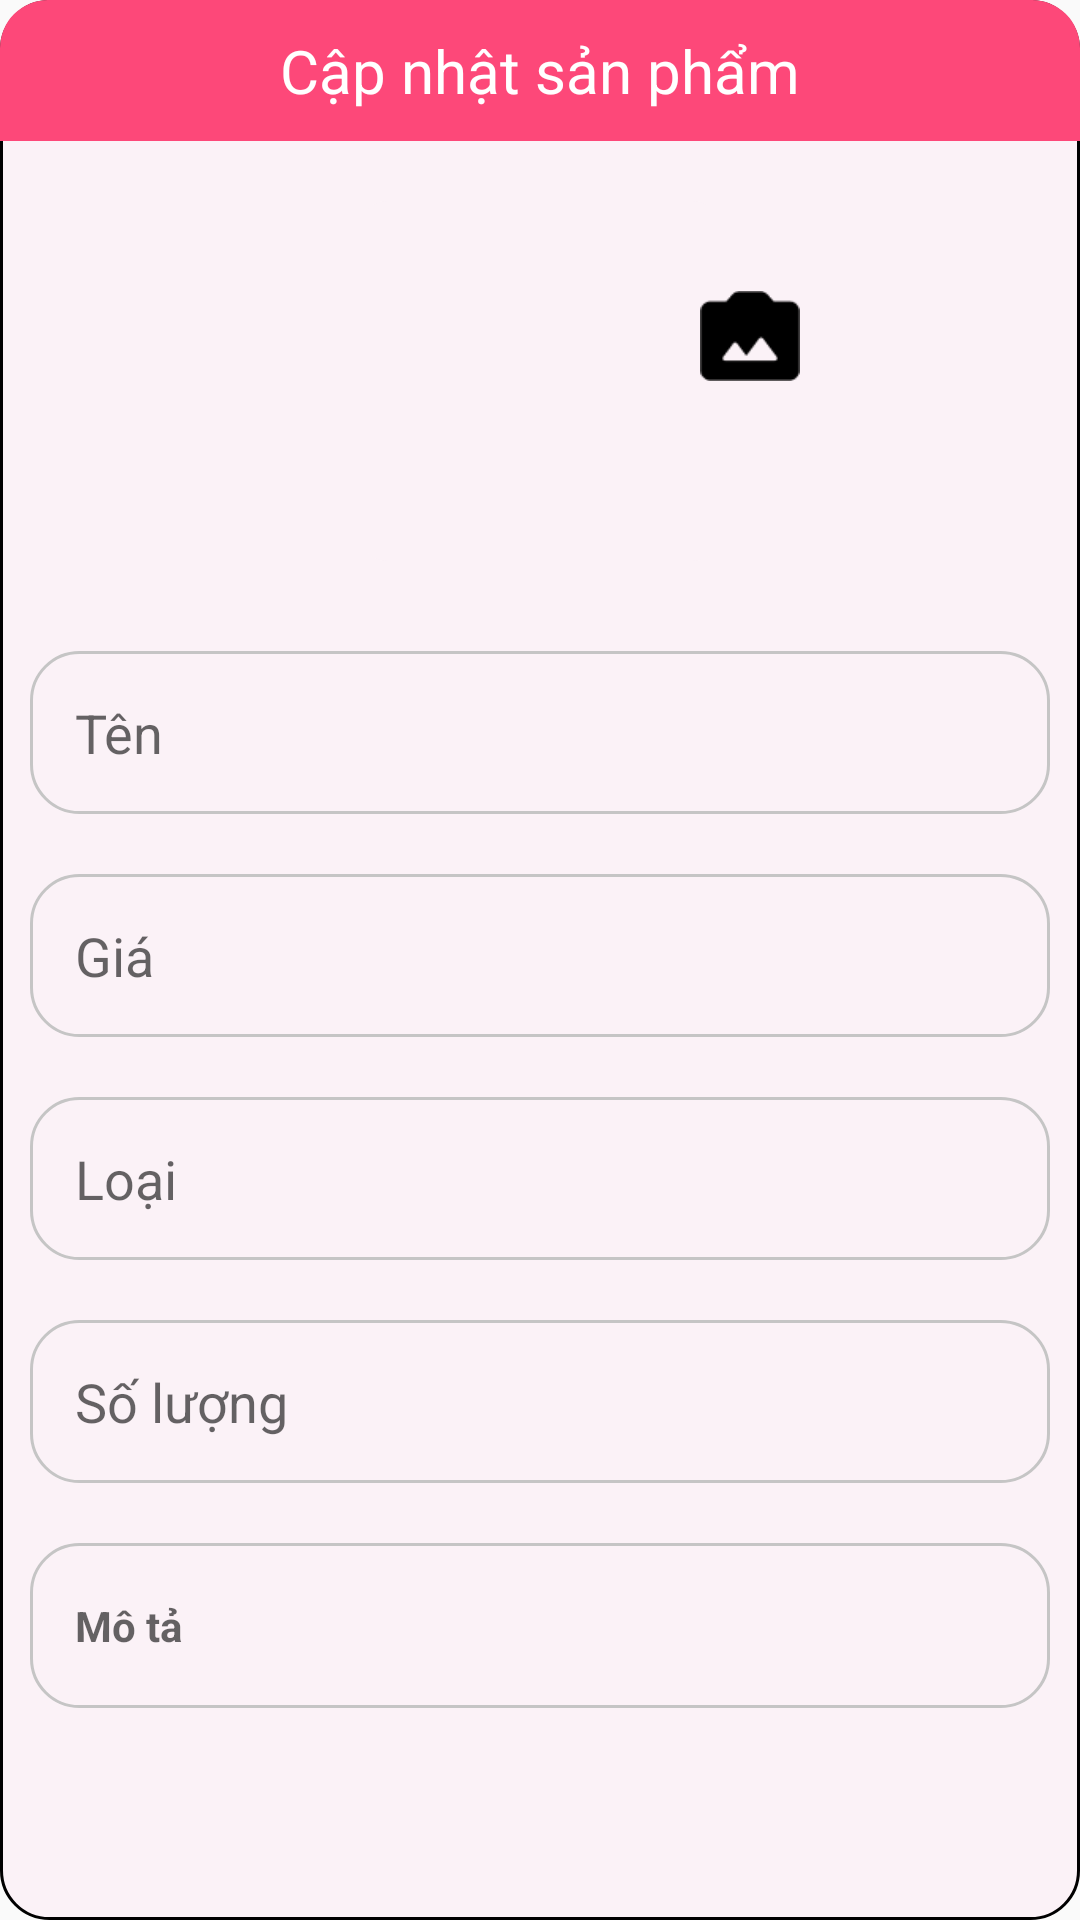

Where to tap for icons on this 1080px x 1920px app screen, as (x=x, y=y):
imagegallery: (x=750, y=336)
